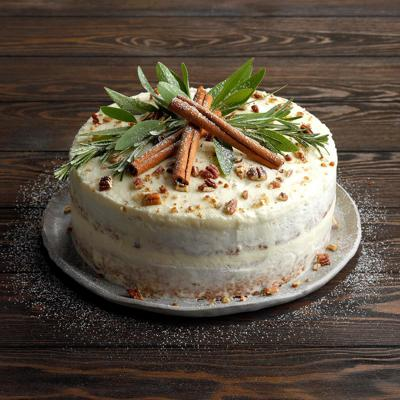cake: (64, 78, 339, 299)
